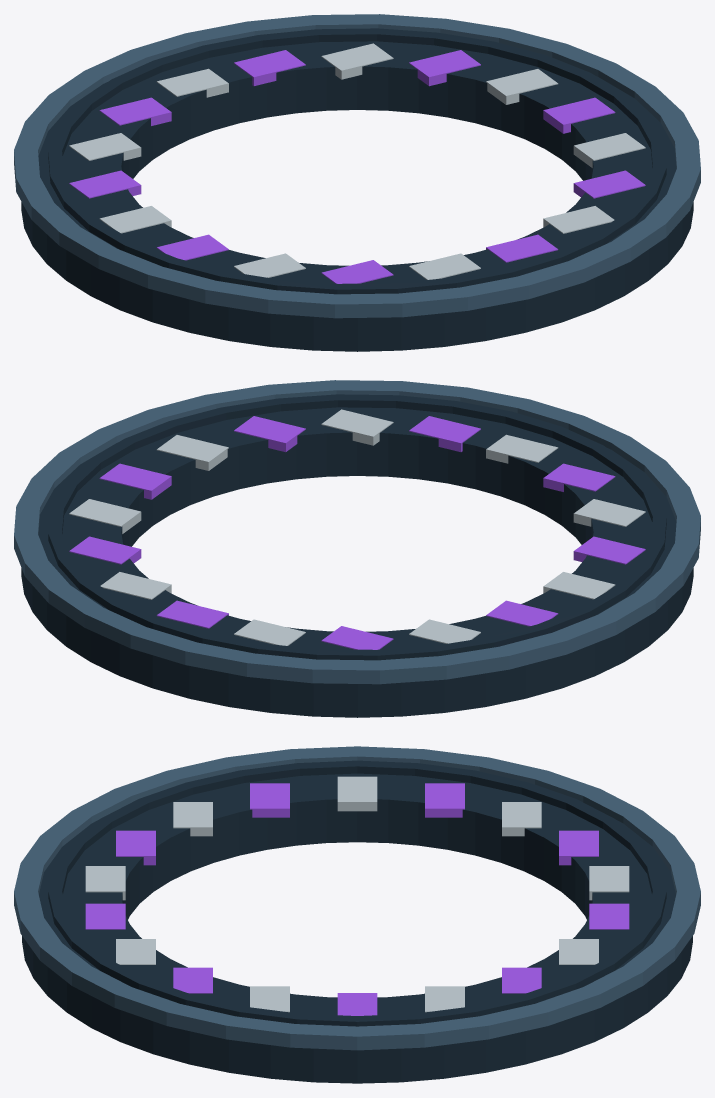
File: 24_L74_NumericalApertureSelector.fbx
3 renders of one model, top to bottom at view 1: azimuth 30°, elevation 25°; view 2: azimuth 150°, elevation 25°; view 3: azimuth 270°, elevation 25°, orthographic.
Visible parts, largest first — view 1: NumericalApertureSelector_Part_0000, NumericalApertureSelector_Part_0019, NumericalApertureSelector_Part_0020, NumericalApertureSelector_Part_0018, NumericalApertureSelector_Part_0017, NumericalApertureSelector_Part_0001, NumericalApertureSelector_Part_0016, NumericalApertureSelector_Part_0015, NumericalApertureSelector_Part_0014, NumericalApertureSelector_Part_0013, NumericalApertureSelector_Part_0002, NumericalApertureSelector_Part_0012 (+9 smaller); view 2: NumericalApertureSelector_Part_0000, NumericalApertureSelector_Part_0019, NumericalApertureSelector_Part_0020, NumericalApertureSelector_Part_0002, NumericalApertureSelector_Part_0003, NumericalApertureSelector_Part_0001, NumericalApertureSelector_Part_0004, NumericalApertureSelector_Part_0005, NumericalApertureSelector_Part_0006, NumericalApertureSelector_Part_0007, NumericalApertureSelector_Part_0018, NumericalApertureSelector_Part_0008 (+9 smaller); view 3: NumericalApertureSelector_Part_0000, NumericalApertureSelector_Part_0019, NumericalApertureSelector_Part_0020, NumericalApertureSelector_Part_0010, NumericalApertureSelector_Part_0009, NumericalApertureSelector_Part_0011, NumericalApertureSelector_Part_0008, NumericalApertureSelector_Part_0012, NumericalApertureSelector_Part_0007, NumericalApertureSelector_Part_0013, NumericalApertureSelector_Part_0006, NumericalApertureSelector_Part_0014 (+9 smaller).
Boxes of the visible parts, x1,y1,x2,y2 form: NumericalApertureSelector_Part_0000: [21, 41, 693, 351]; NumericalApertureSelector_Part_0019: [14, 14, 700, 318]; NumericalApertureSelector_Part_0020: [48, 28, 666, 294]; NumericalApertureSelector_Part_0018: [486, 69, 558, 104]; NumericalApertureSelector_Part_0017: [409, 50, 480, 86]; NumericalApertureSelector_Part_0001: [543, 97, 615, 133]; NumericalApertureSelector_Part_0016: [321, 43, 393, 79]; NumericalApertureSelector_Part_0015: [234, 50, 305, 85]; NumericalApertureSelector_Part_0014: [156, 68, 228, 97]; NumericalApertureSelector_Part_0013: [99, 97, 171, 125]; NumericalApertureSelector_Part_0002: [573, 133, 645, 167]; NumericalApertureSelector_Part_0012: [69, 133, 141, 160]; NumericalApertureSelector_Part_0000: [21, 407, 693, 717]; NumericalApertureSelector_Part_0019: [14, 380, 700, 684]; NumericalApertureSelector_Part_0020: [48, 394, 666, 660]; NumericalApertureSelector_Part_0002: [156, 435, 228, 470]; NumericalApertureSelector_Part_0003: [234, 416, 305, 452]; NumericalApertureSelector_Part_0001: [99, 463, 171, 499]; NumericalApertureSelector_Part_0004: [321, 409, 393, 445]; NumericalApertureSelector_Part_0005: [409, 416, 480, 451]; NumericalApertureSelector_Part_0006: [486, 434, 558, 463]; NumericalApertureSelector_Part_0007: [543, 463, 615, 491]; NumericalApertureSelector_Part_0018: [69, 499, 141, 533]; NumericalApertureSelector_Part_0008: [573, 499, 645, 526]; NumericalApertureSelector_Part_0000: [22, 773, 692, 1083]; NumericalApertureSelector_Part_0019: [14, 746, 700, 1050]; NumericalApertureSelector_Part_0020: [48, 760, 666, 1026]; NumericalApertureSelector_Part_0010: [337, 776, 377, 811]; NumericalApertureSelector_Part_0009: [250, 783, 289, 817]; NumericalApertureSelector_Part_0011: [425, 783, 464, 817]; NumericalApertureSelector_Part_0008: [173, 802, 212, 836]; NumericalApertureSelector_Part_0012: [502, 802, 541, 836]; NumericalApertureSelector_Part_0007: [116, 830, 155, 865]; NumericalApertureSelector_Part_0013: [559, 830, 598, 865]; NumericalApertureSelector_Part_0006: [85, 866, 125, 900]; NumericalApertureSelector_Part_0014: [589, 866, 629, 900].
Size of the model in its own units: 172 by 13.98 by 172.
